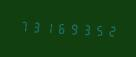five: (89, 21, 100, 38)
nine: (65, 19, 76, 37)
one: (41, 18, 52, 36)
seven: (17, 17, 28, 34)
six: (53, 19, 64, 36)
three: (29, 17, 40, 35), (77, 20, 88, 38)
two: (101, 21, 112, 39)
